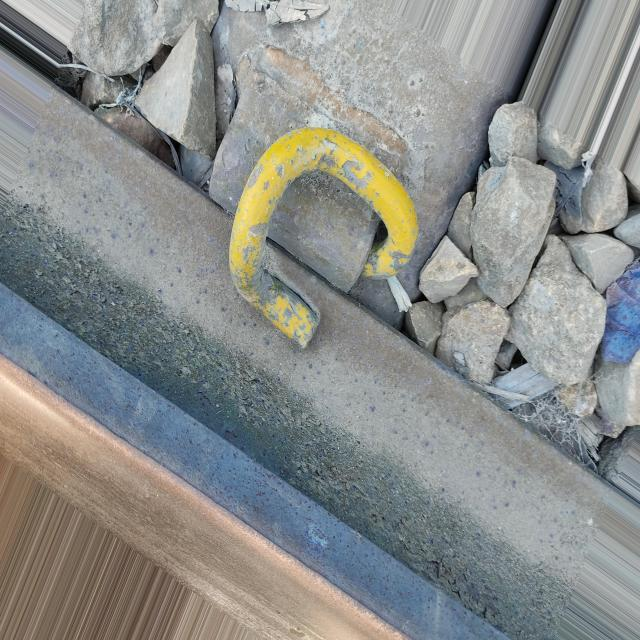Good Fasteners: (210, 0, 504, 324)
